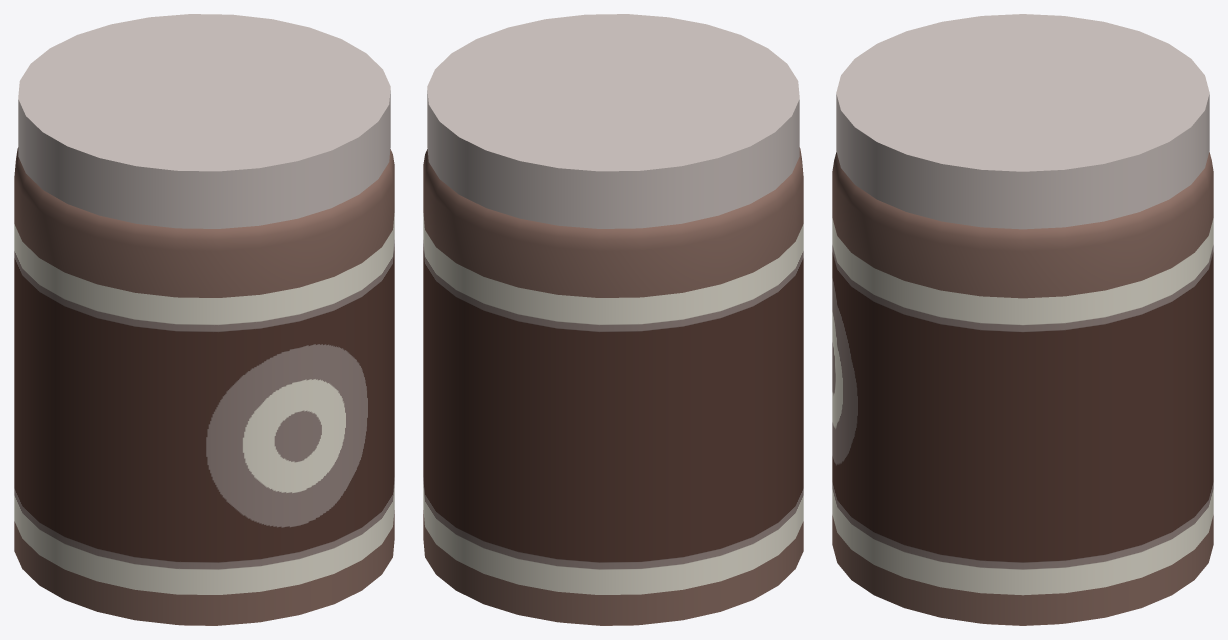
Rendered from Chocolate_Spread.fbx.
3 renders of one model, left to right at view 1: azimuth 30°, elevation 25°; view 2: azimuth 150°, elevation 25°; view 3: azimuth 270°, elevation 25°, orthographic.
Parts seen in each view (by area): view 1: Chocolate_Spread; view 2: Chocolate_Spread; view 3: Chocolate_Spread.
Part boxes in pixels (box(x1,y1,x2,y2)): Chocolate_Spread: box(14, 14, 394, 625); Chocolate_Spread: box(423, 14, 803, 625); Chocolate_Spread: box(832, 14, 1213, 625).
Size of the model in its own units: 0.084 by 0.114 by 0.084.
Materials: 3 (1 with a texture image).
